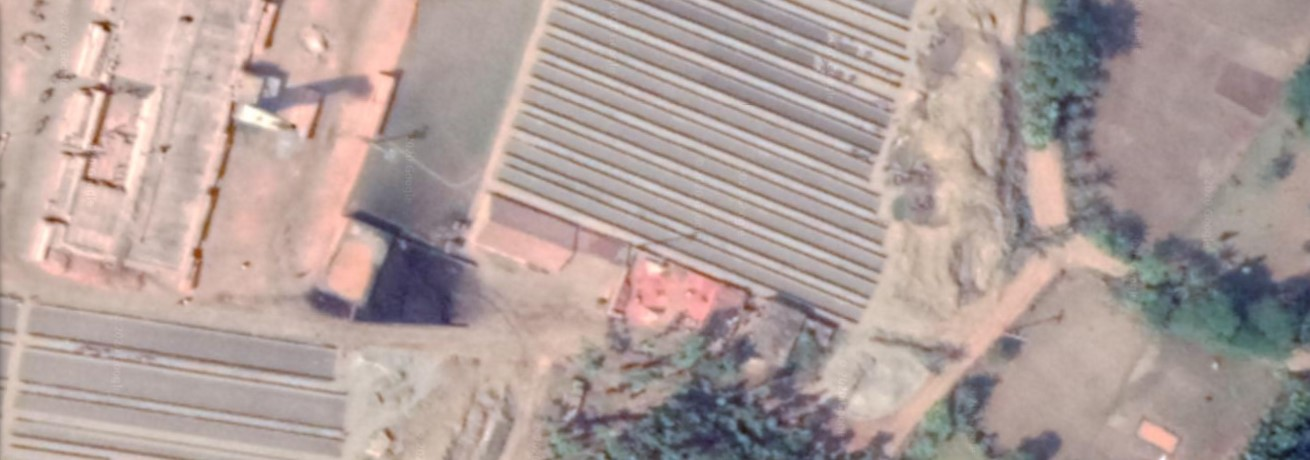kiln: (45, 3, 358, 301)
